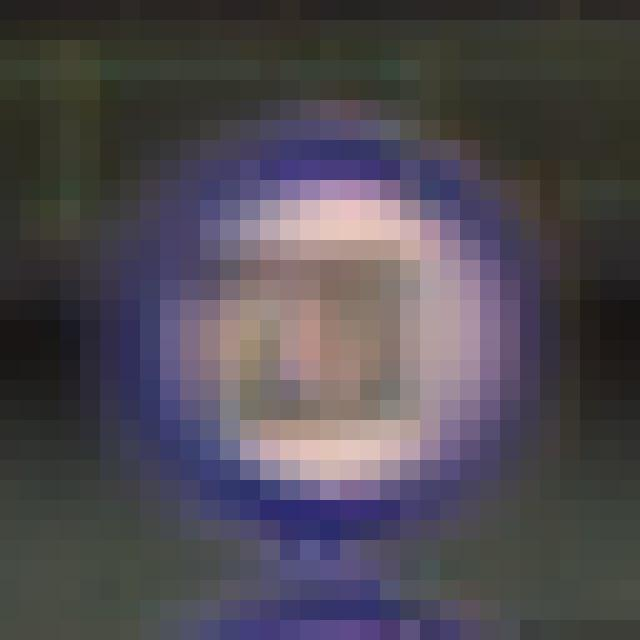SPEED LIMIT 120: (115, 129, 533, 532)
